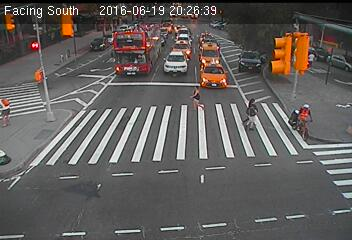neg: (291, 102, 320, 141)
pos: (238, 93, 266, 130), (187, 84, 205, 108), (304, 49, 320, 71)
